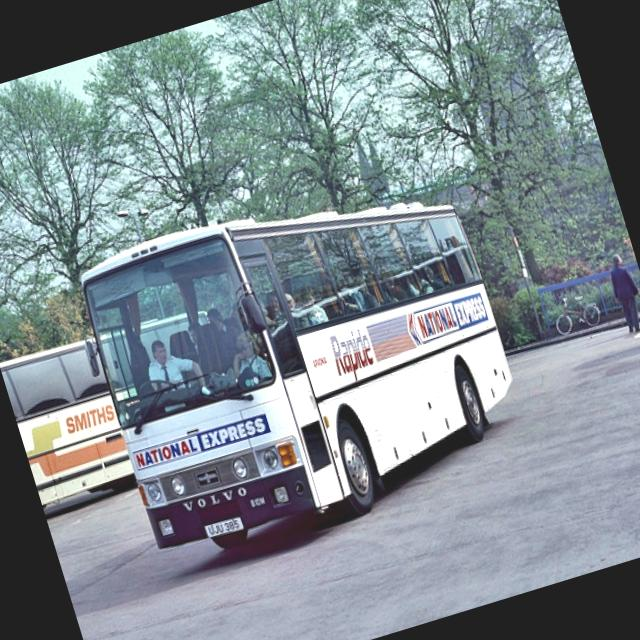Vehicle: (58, 153, 540, 576), (0, 325, 141, 521)
